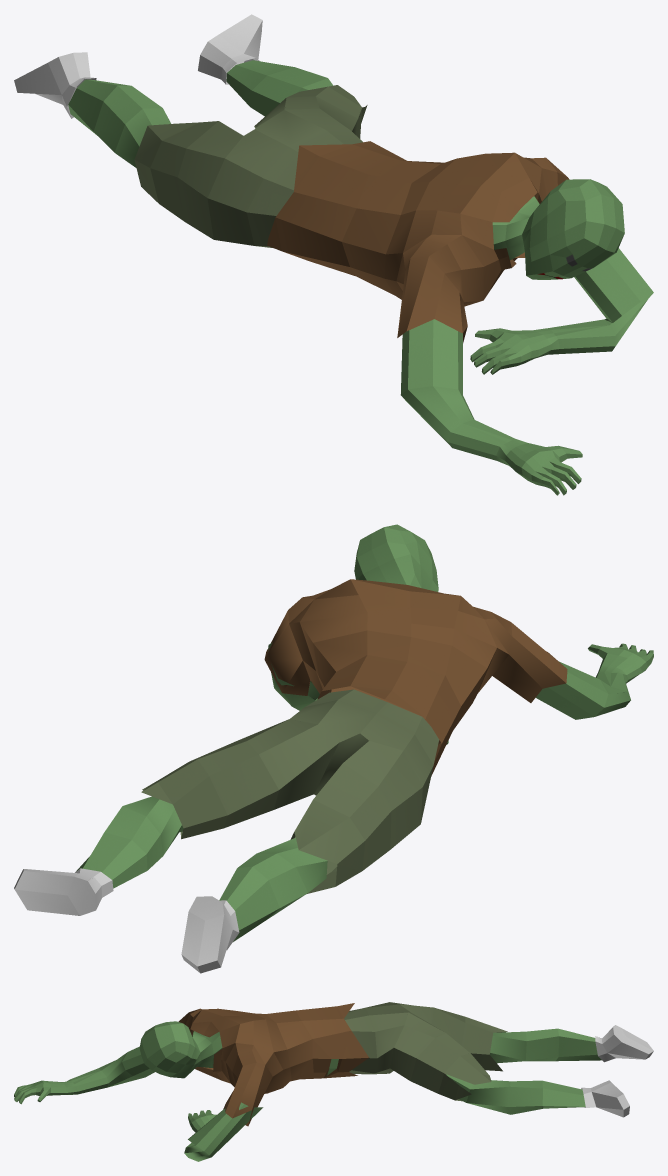
Rendered from ZombieCrawl(85).obj.
The picture shows the model from 3 angles, top to bottom: view 1: azimuth 30°, elevation 25°; view 2: azimuth 150°, elevation 25°; view 3: azimuth 270°, elevation 25°; orthographic projection. The views are drawn at different scales.
Parts seen in each view (by area): view 1: Object001; view 2: Object001; view 3: Object001.
Boxes of the visible parts, x1,y1,x2,y2 form: Object001: (14,14,653,495); Object001: (14,524,653,973); Object001: (14,1002,653,1161).
Size of the model in its own units: 25.73 by 16.12 by 74.68.
